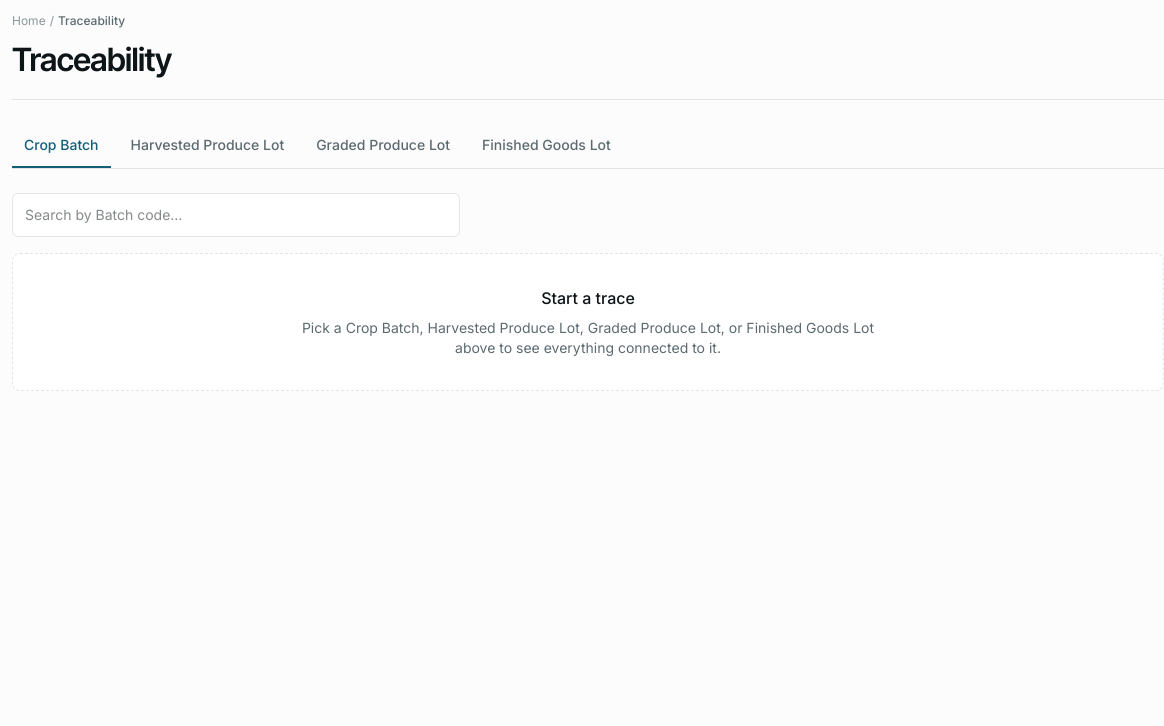
Test: TraceabilityPage › traces from a Crop Batch and shows only read links, with farmId preserved
The image size is (1164, 726).
Focus the dropdown named "select crop batch" at (236, 215), box [12,193,460,237]
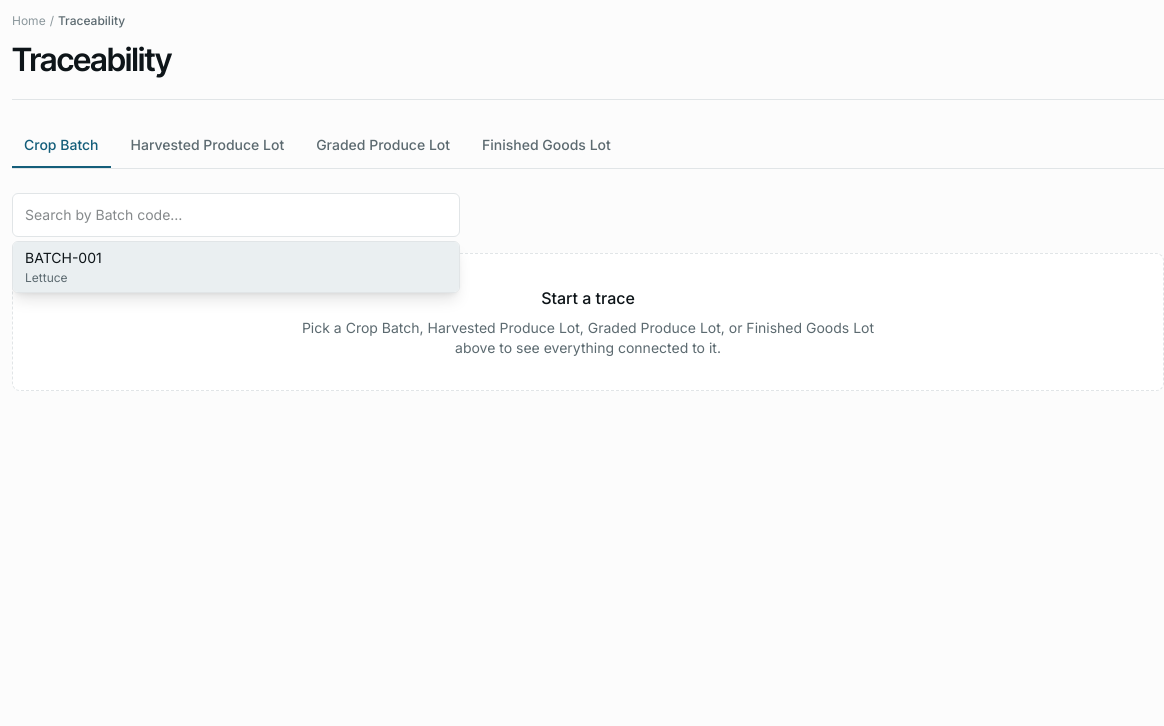
Check: the text "BATCH-001" is shown
Click the text "BATCH-001".
click(63, 258)  # box [25,248,102,268]
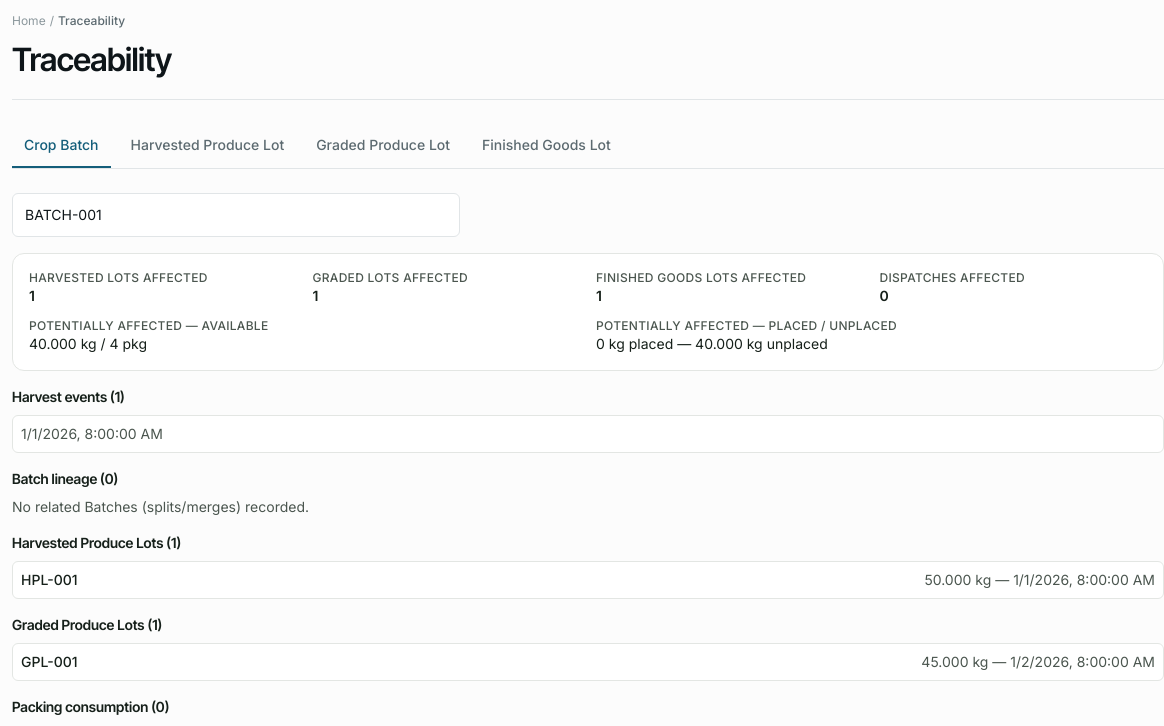
Check: the heading "Harvested Produce Lots (1)" is shown, box [12,534,181,551]
Check: the text "HPL-001" is shown, box [21,570,78,590]
